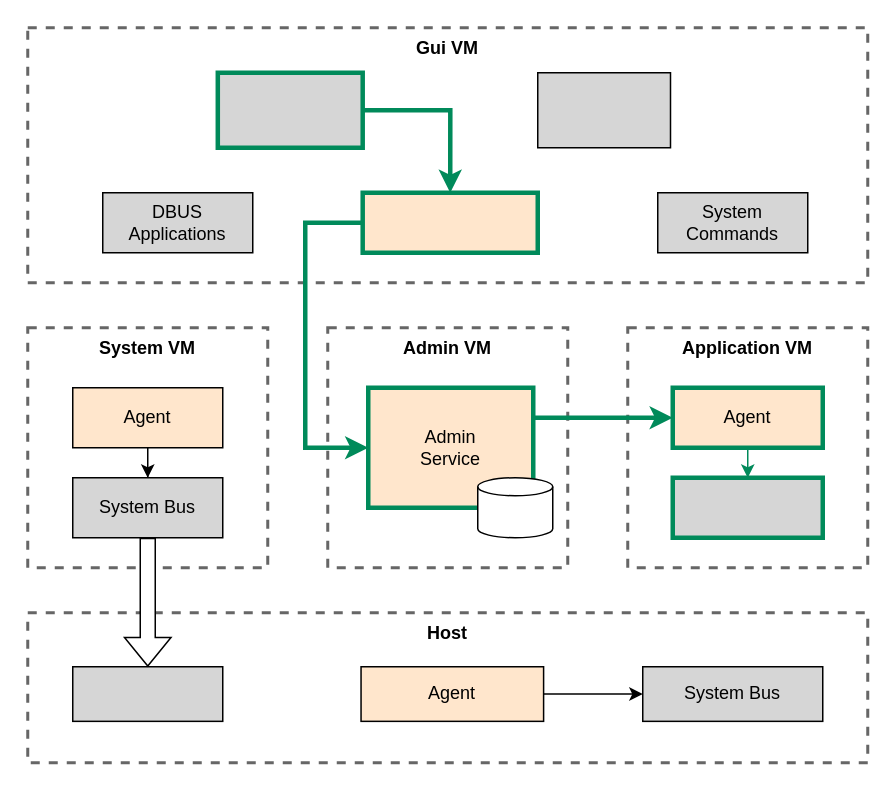
The diagram is 894 pixels wide and 789 high, and some of its shapes have lost their labels. The centre of each missing label's shape, as x and y in pixels:
Application Starter: point (289, 109)
CLI: point (449, 222)
Hardware: point (147, 693)
Registry: point (514, 507)
Resource Monitor: point (603, 109)
Session Bus: point (747, 507)
